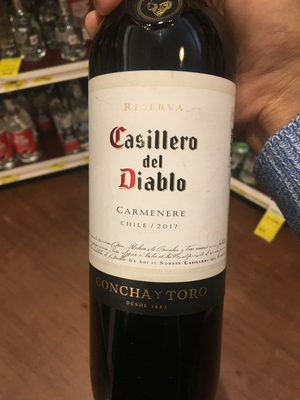casillero del diablo carmenere: (90, 13, 235, 399)
